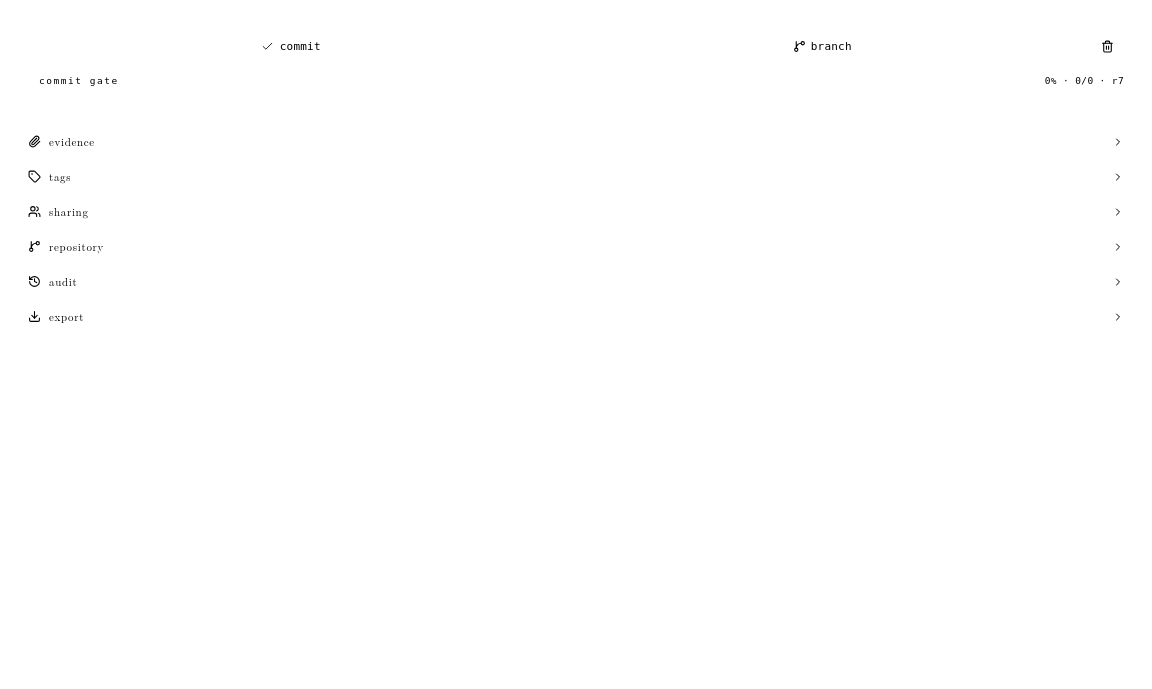
Test: browser node mutation contracts › hides every sharing mutation from a non-admin viewer
What coordinates should you click on to do the following:
click the button "sharing"
I would click on:
 (69, 212)
Its box is [28,194,1124,229].
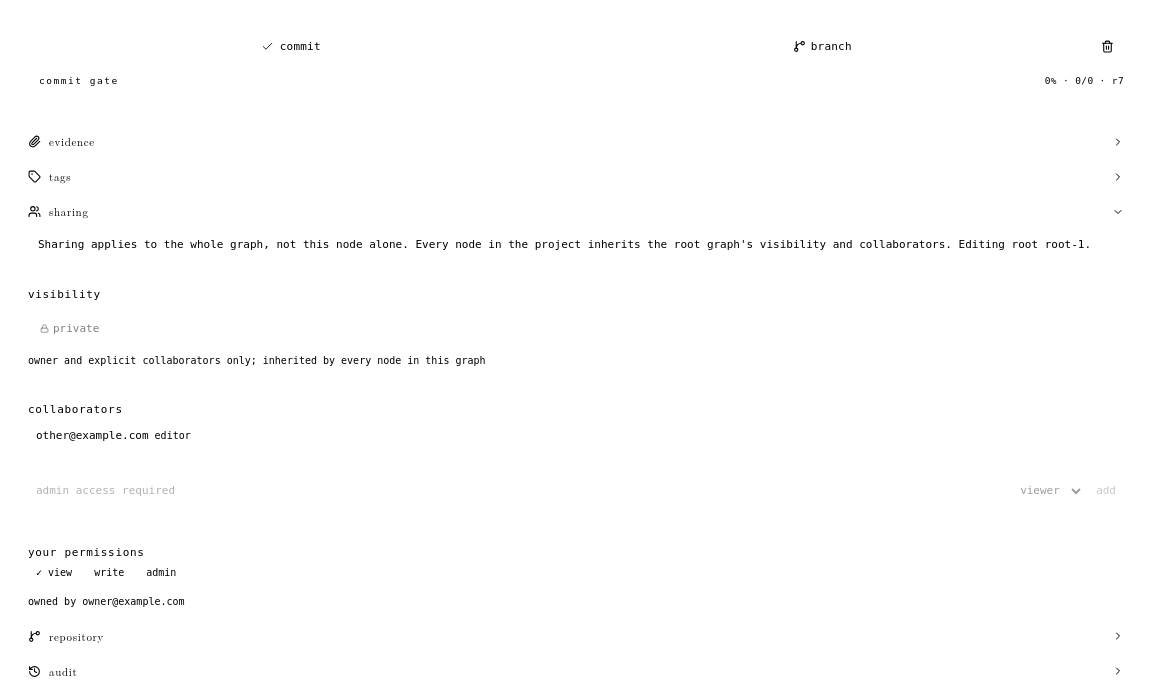
Check: the button "private" is disabled, box [28,307,111,351]
Check: the field with placeholder "admin access required" is disabled, box [28,463,1004,519]
Check: the button "add" is disabled, box [1088,463,1124,519]
